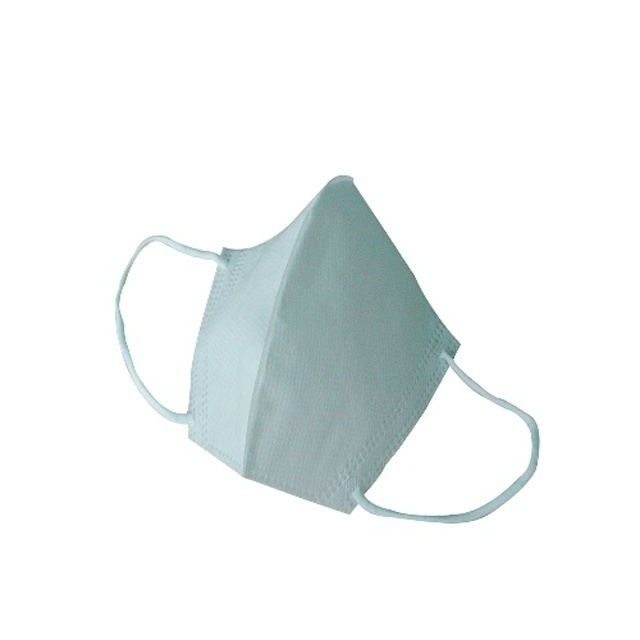mask: (109, 169, 542, 527)
